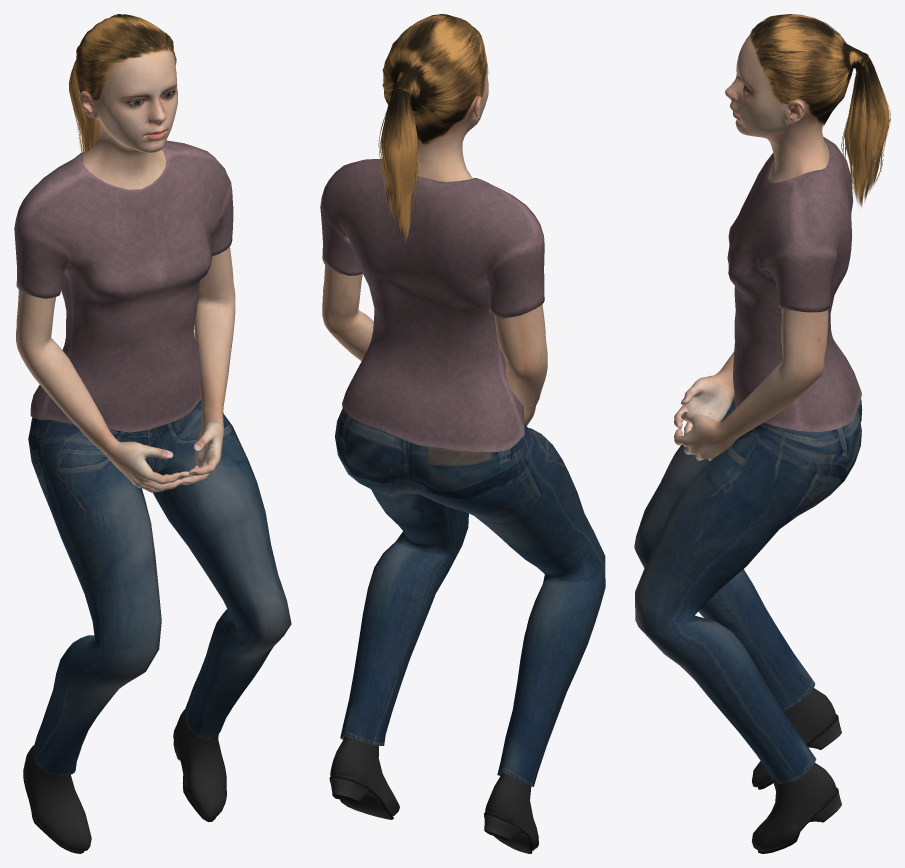
The model's file is civ_nz_schlaf_f.glb.
The picture shows the model from 3 angles, left to right: view 1: azimuth 30°, elevation 25°; view 2: azimuth 150°, elevation 25°; view 3: azimuth 270°, elevation 25°; orthographic projection. The views are drawn at different scales.
Visible parts, largest first — view 1: lie; view 2: lie; view 3: lie.
Part boxes in pixels (box(x1,y1,x2,y2)): lie: box(14, 14, 291, 853); lie: box(320, 14, 605, 853); lie: box(634, 14, 890, 853).
Size of the model in its own units: 0.3848 by 1.4 by 0.4041.
Materials: 7 (7 with a texture image).
